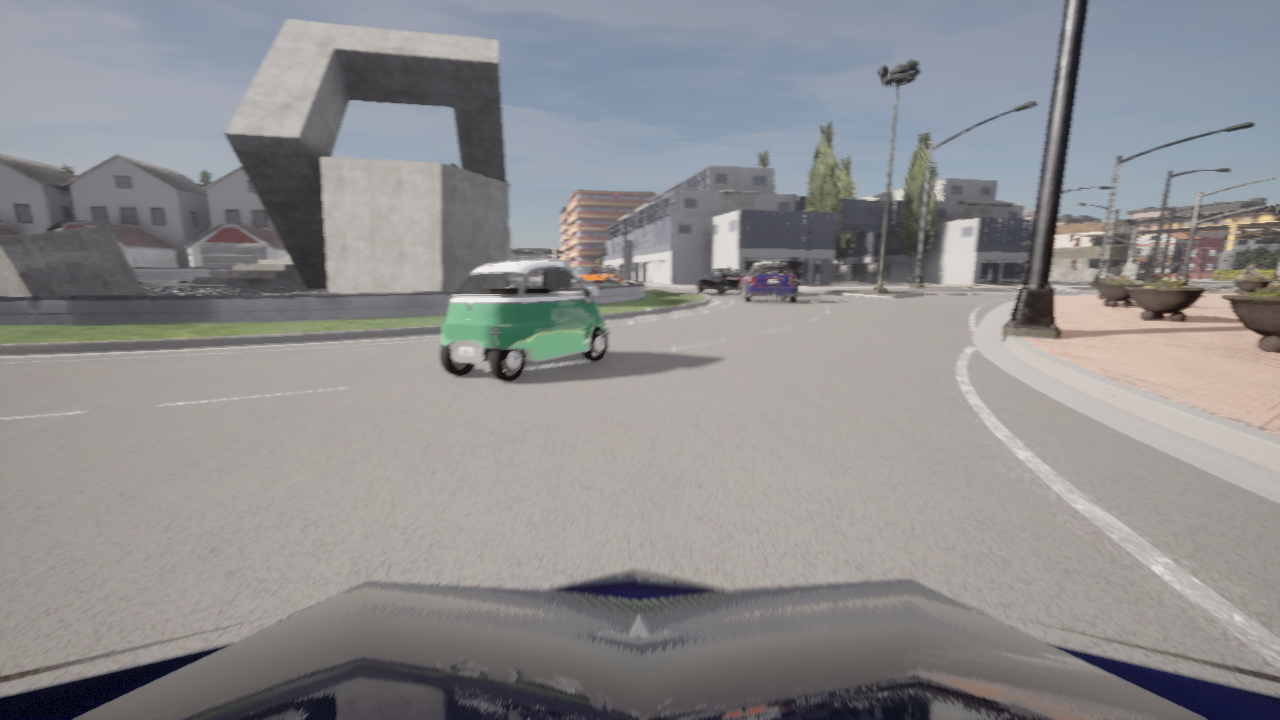cyclist: (0, 569, 1279, 719), (439, 260, 607, 381), (740, 262, 797, 303), (696, 268, 743, 294), (576, 268, 625, 281)
pedestrian: (1234, 261, 1257, 293), (1122, 259, 1137, 281), (727, 264, 729, 267)
